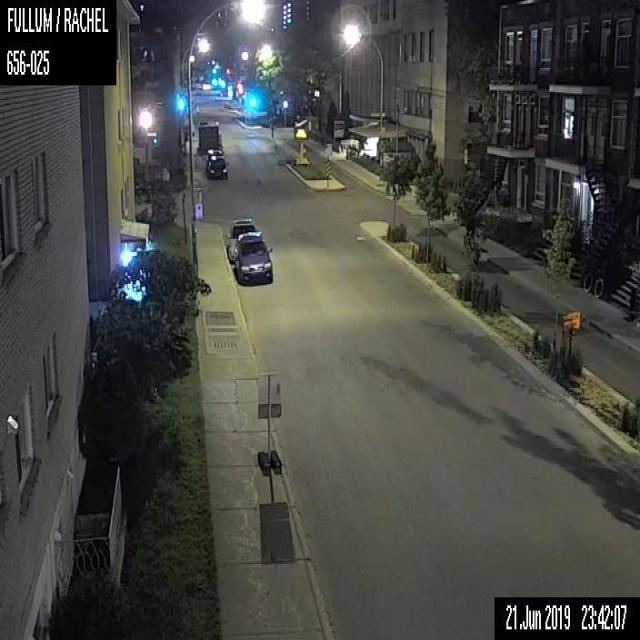construction: (293, 126, 310, 166), (562, 310, 579, 329)
vehicle: (233, 231, 272, 283), (225, 217, 261, 263), (205, 154, 228, 179), (205, 148, 222, 158)
